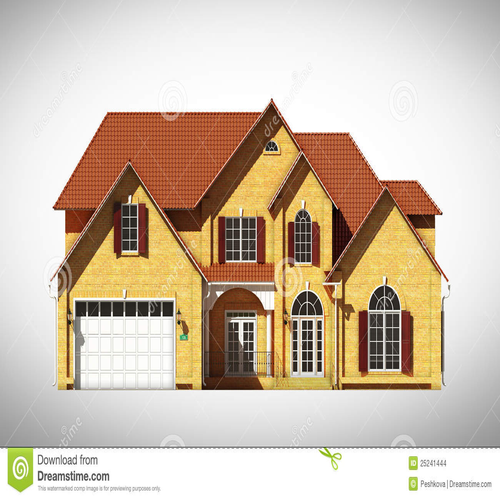Building House: (43, 89, 456, 400)
